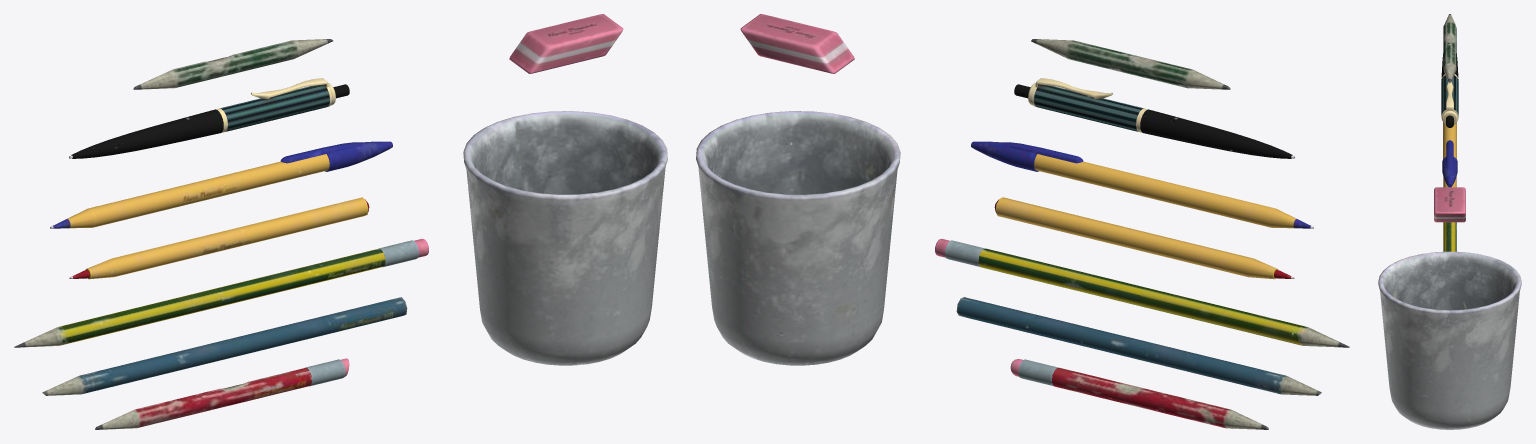
Rendered from ph_stationery_supplies.glb.
3 views of the same model, side by side, from view 1: azimuth 30°, elevation 25°; view 2: azimuth 150°, elevation 25°; view 3: azimuth 270°, elevation 25° (orthographic). The views are drawn at different scales.
Parts seen in each view (by area): view 1: stationery_supplies_pen_red; view 2: stationery_supplies_pen_red; view 3: stationery_supplies_pen_red.
Part boxes in pixels (x1,y1,x2,y2): stationery_supplies_pen_red: [14, 14, 667, 429]; stationery_supplies_pen_red: [696, 14, 1349, 429]; stationery_supplies_pen_red: [1378, 14, 1521, 429].
Bounding box in the file's own units: 0.3019 × 0.1643 × 0.0837.
1 material, 1 textured.
